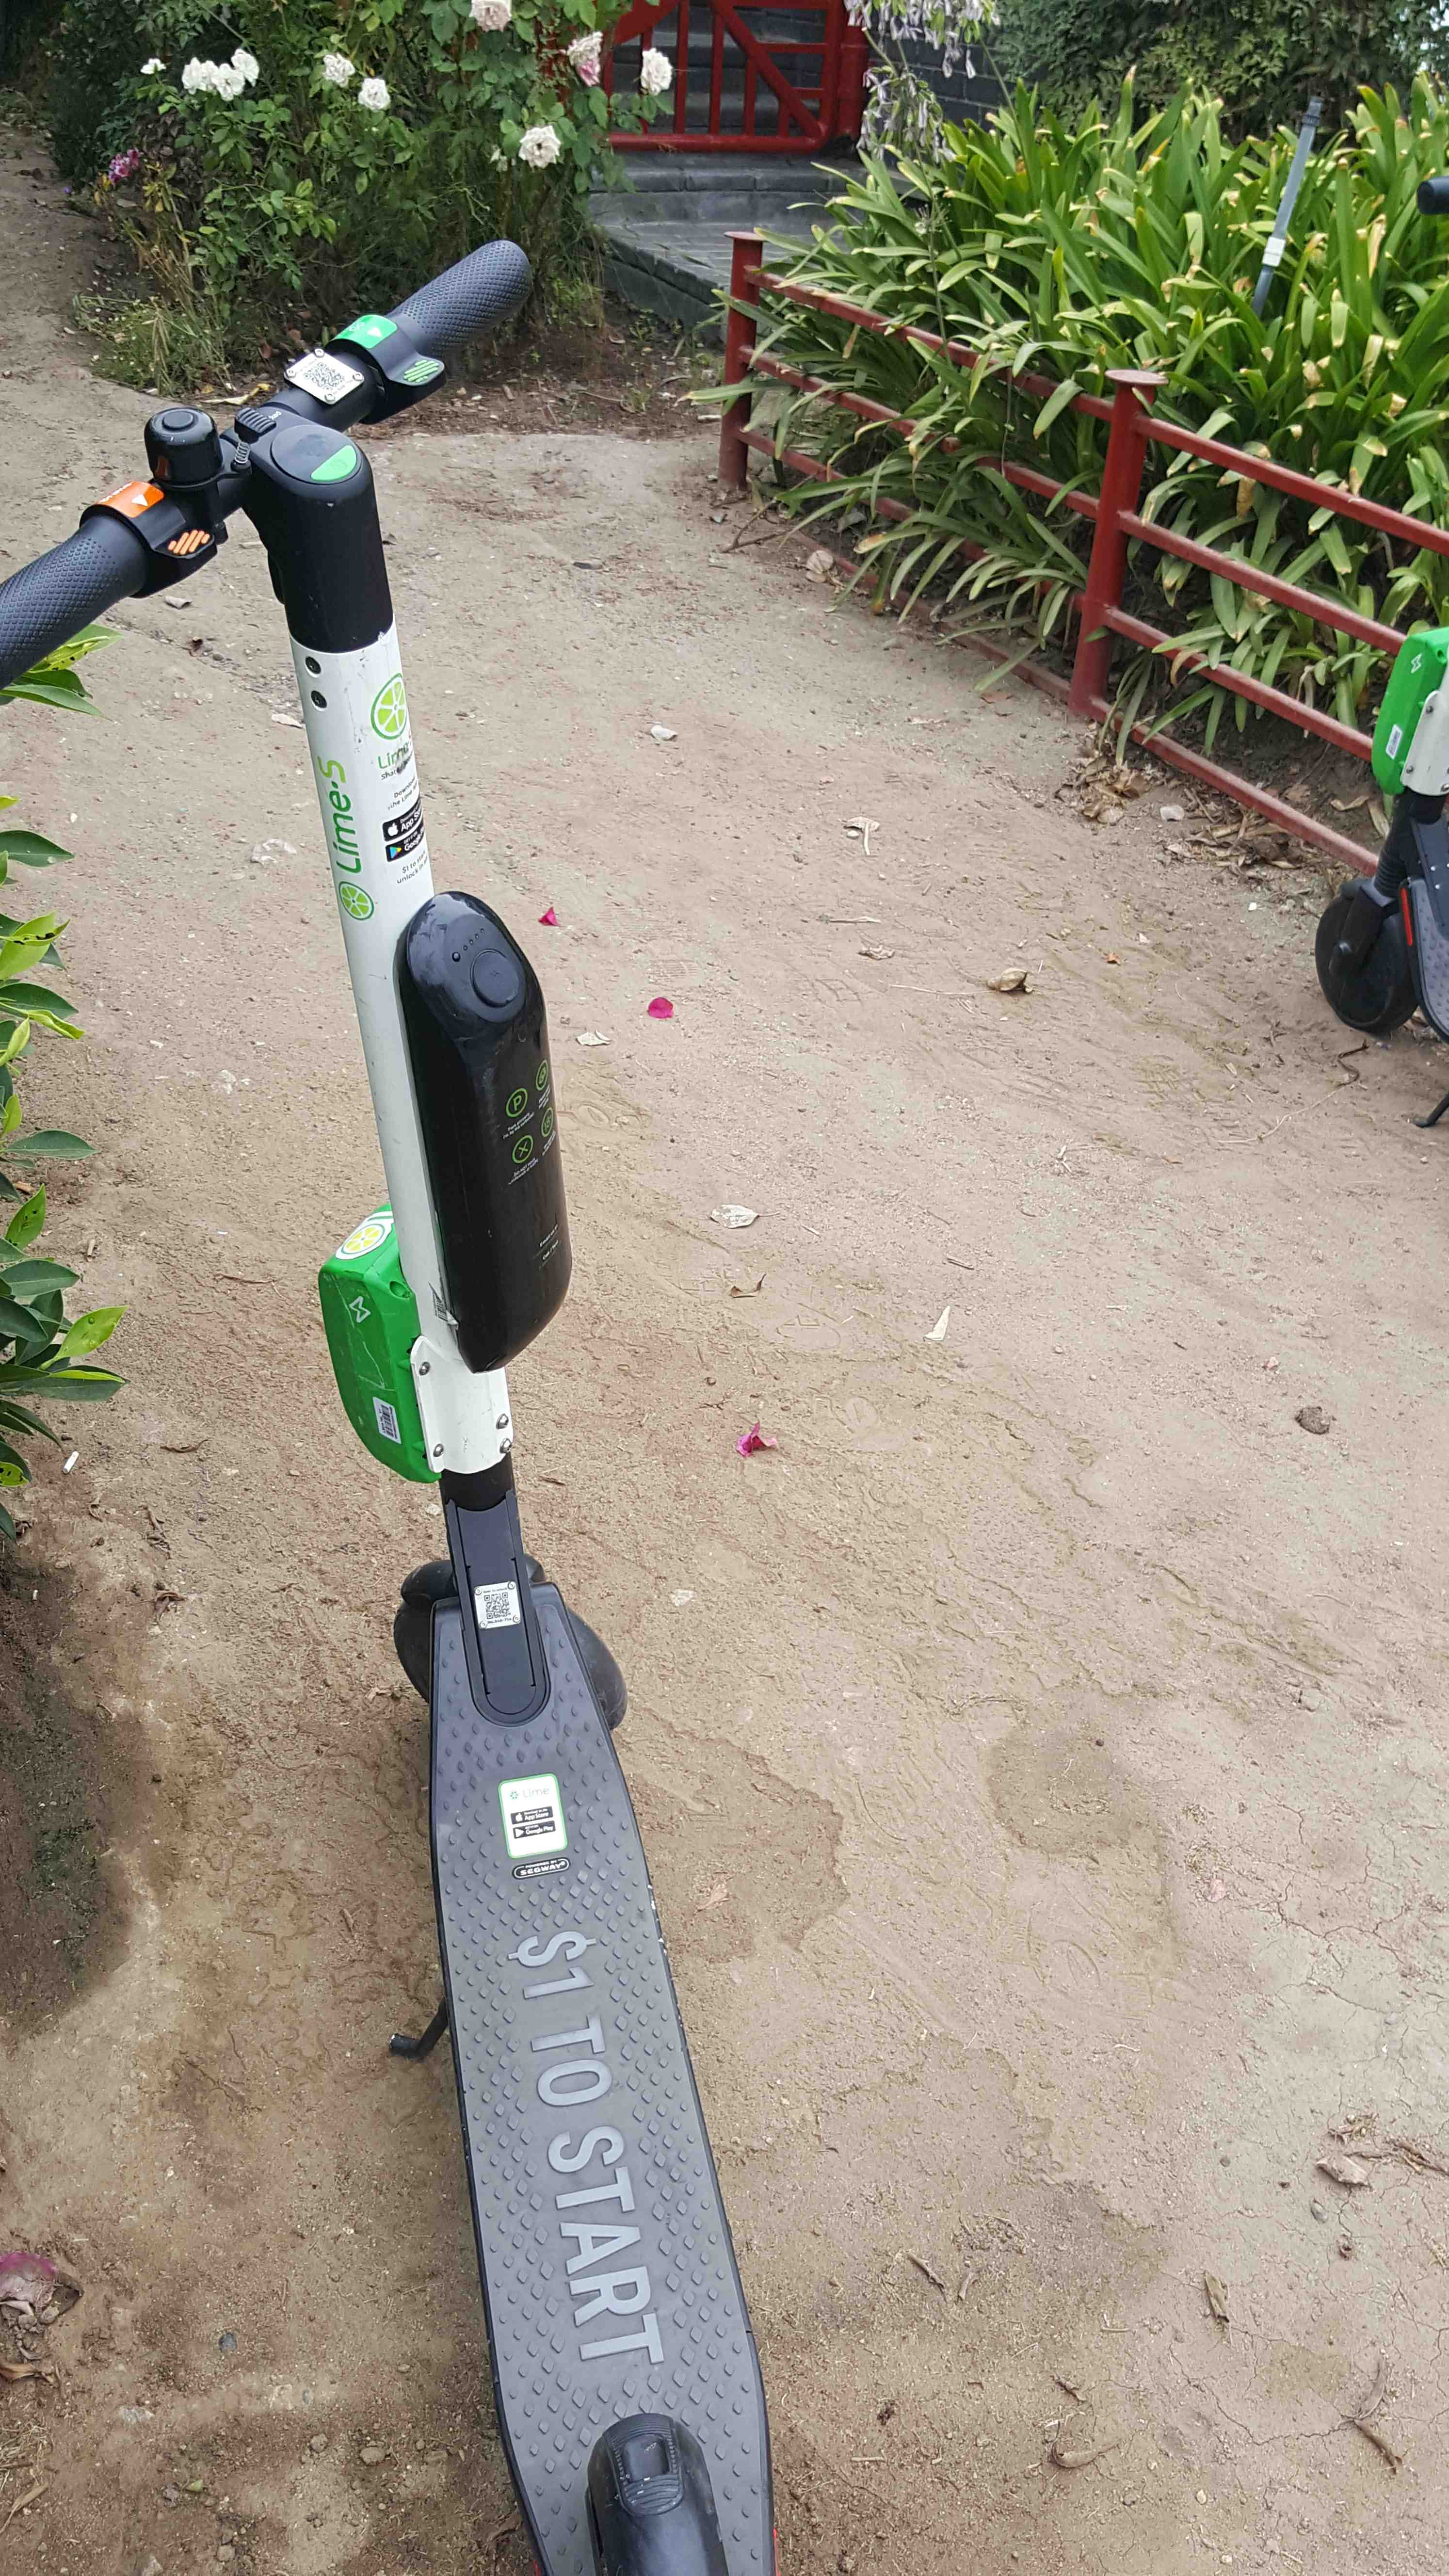scooter: (5, 212, 791, 2576)
